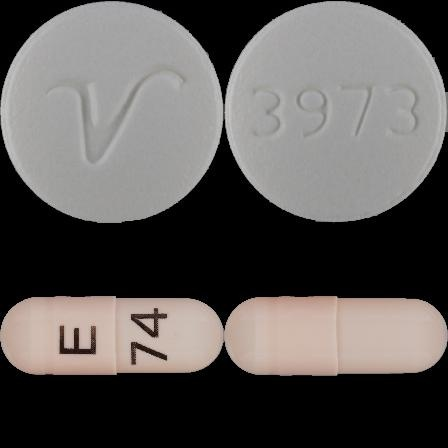61786-240: (0, 0, 224, 224)
